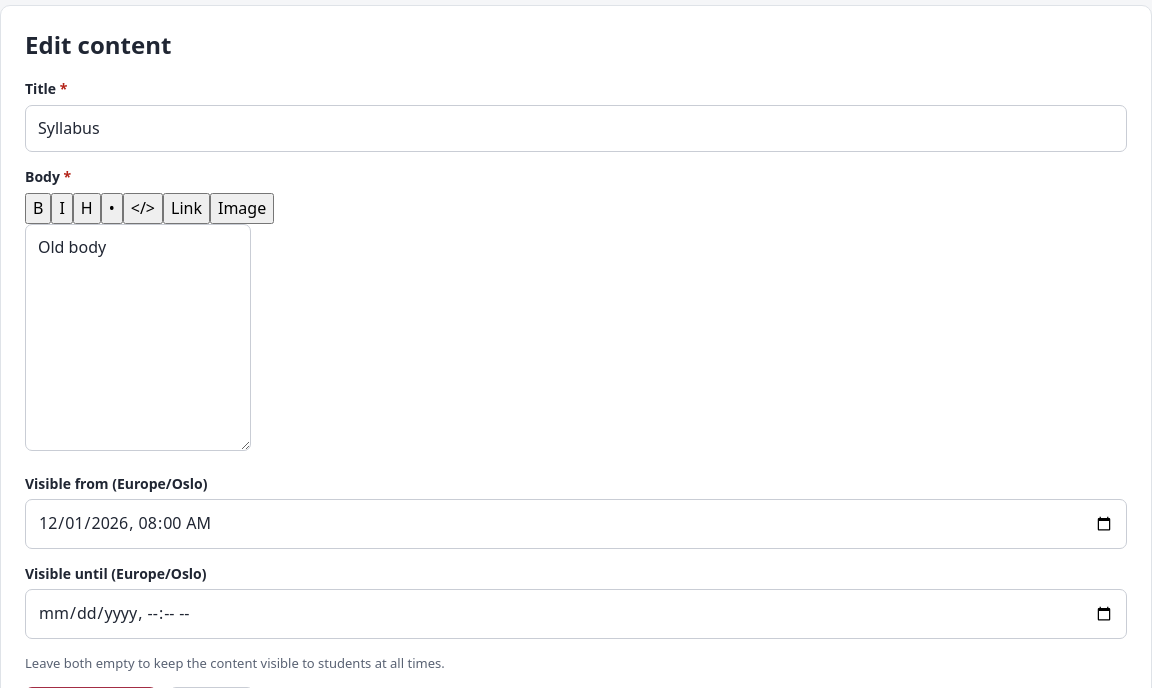
Scenario: EditContentForm › rejects a window that ends before it starts
The width and height of the screenshot is (1152, 688).
Type "2026-11-01T08:00" into the field labelled "Visible until (Europe/Oslo)".
click(576, 614); type("2026-11-01T08:00")  # box [25,589,1127,639]
(page scrolled)
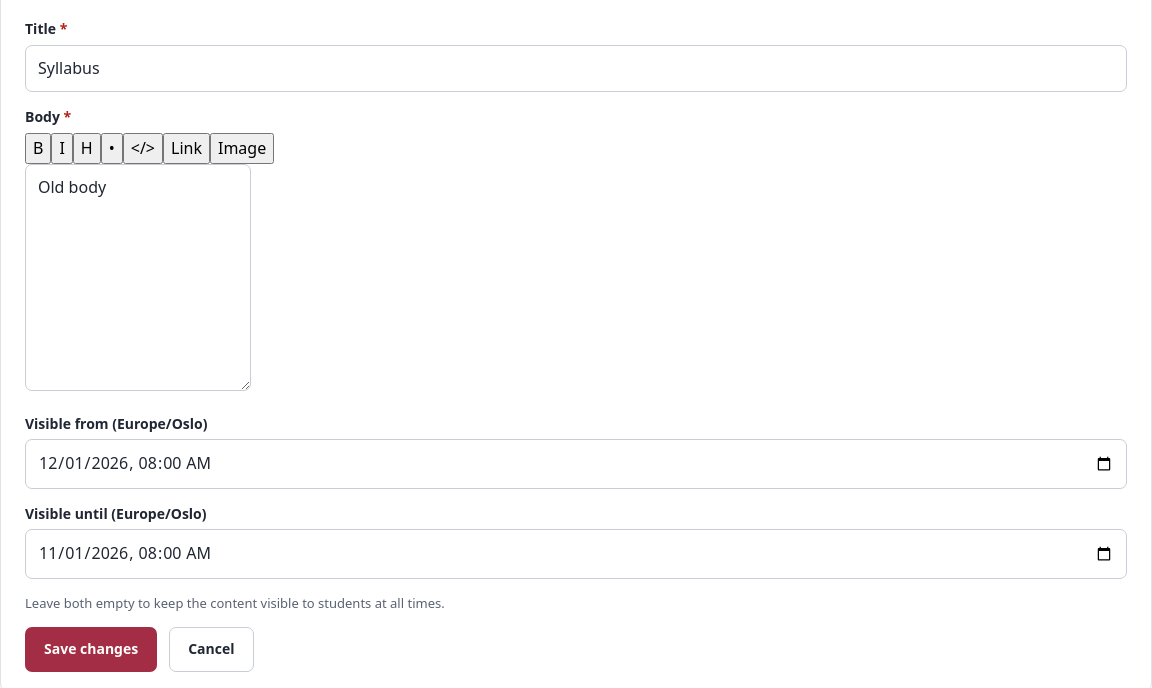
Click the button "Save changes".
click(91, 650)  # box [25,628,157,672]
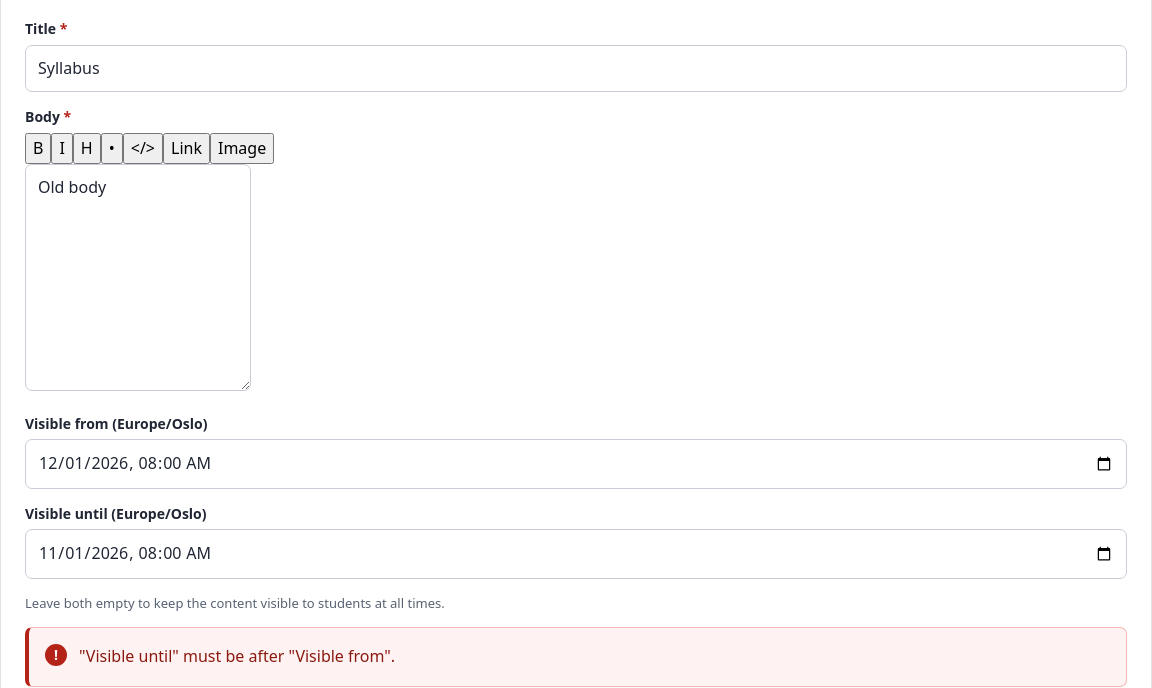
Expected: the text "\"Visible until\" must be after \"Visible from\"." is shown, [79,644,395,670]
